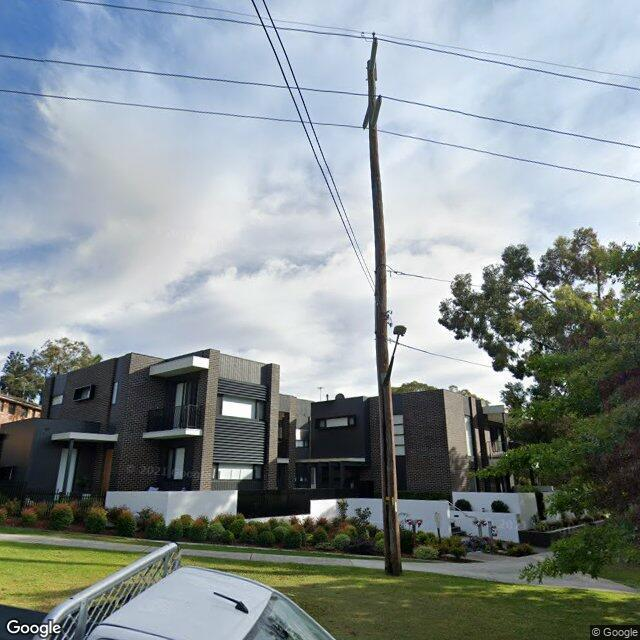HV-transmission: (362, 36, 382, 130)
streetlight: (381, 324, 407, 386)
timber-pole: (366, 60, 402, 577)
